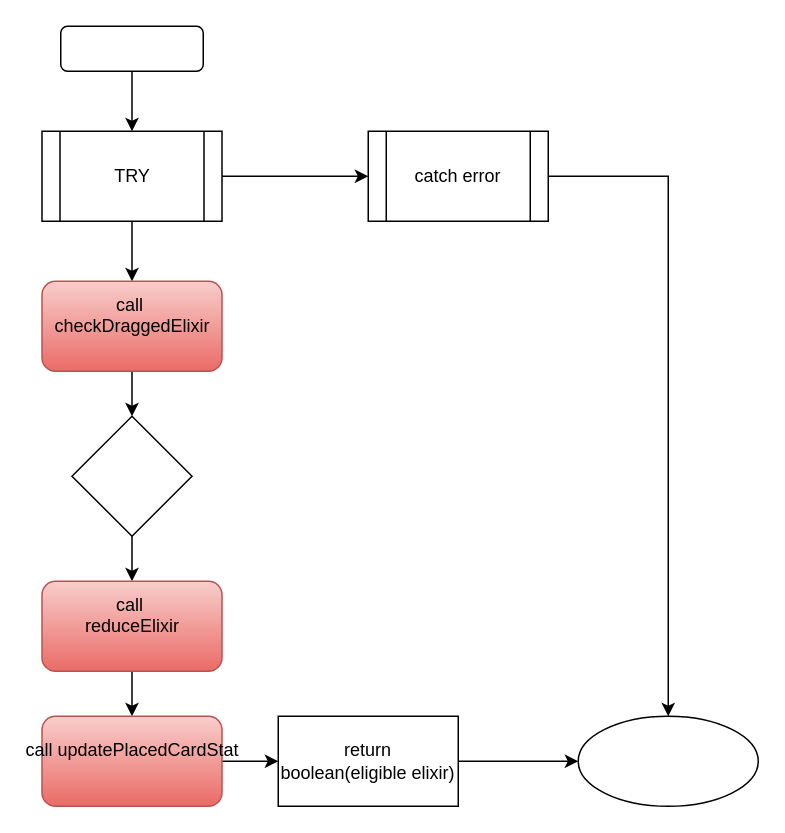
Some shapes in this 785 by 833 pixel diagram are drawn without their labels. The shapes that lost their labels are listed below. From the top down, each one's centre as x and y in pixels, then its label:
point (131, 48): start
point (131, 475): IF eligible elixir
point (667, 760): end
